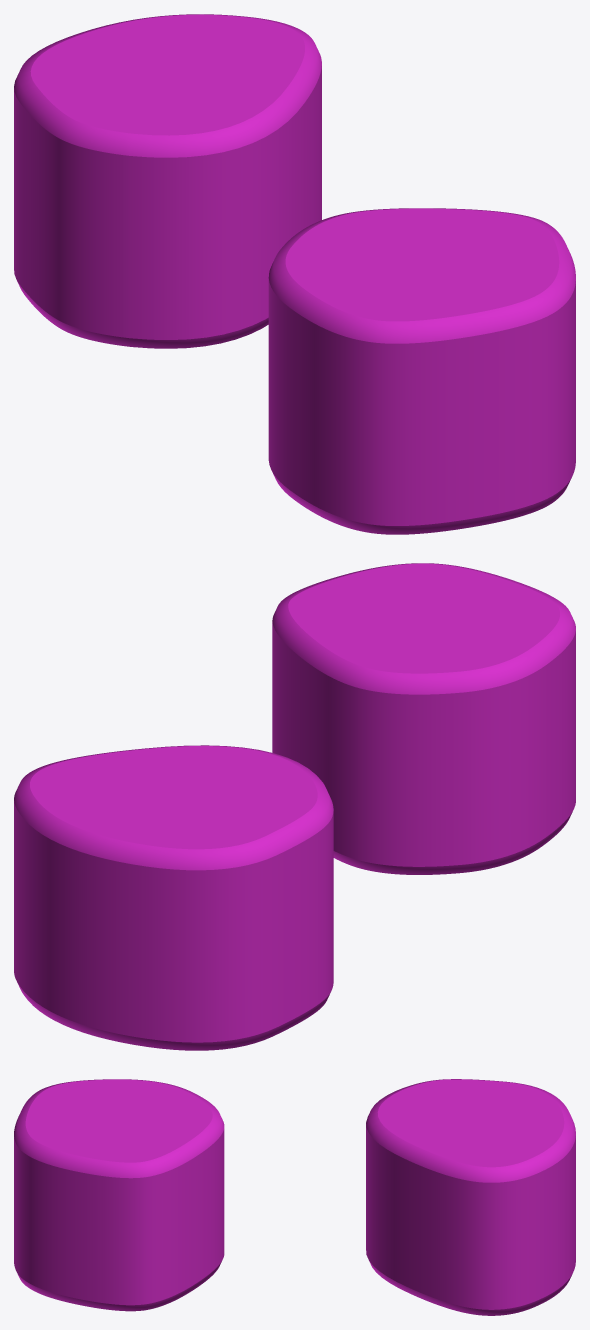
File: Bubble_Colon.fbx
3 views of the same model, one above another, from view 1: azimuth 30°, elevation 25°; view 2: azimuth 150°, elevation 25°; view 3: azimuth 270°, elevation 25° (orthographic). The views are drawn at different scales.
Visible parts, largest first — view 1: BubbleColon; view 2: BubbleColon; view 3: BubbleColon.
Part boxes in pixels (x1,y1,x2,y2): BubbleColon: [14, 14, 575, 534]; BubbleColon: [14, 563, 575, 1050]; BubbleColon: [14, 1079, 575, 1315].
Size of the model in its own units: 0.1978 by 0.14 by 0.4811.
